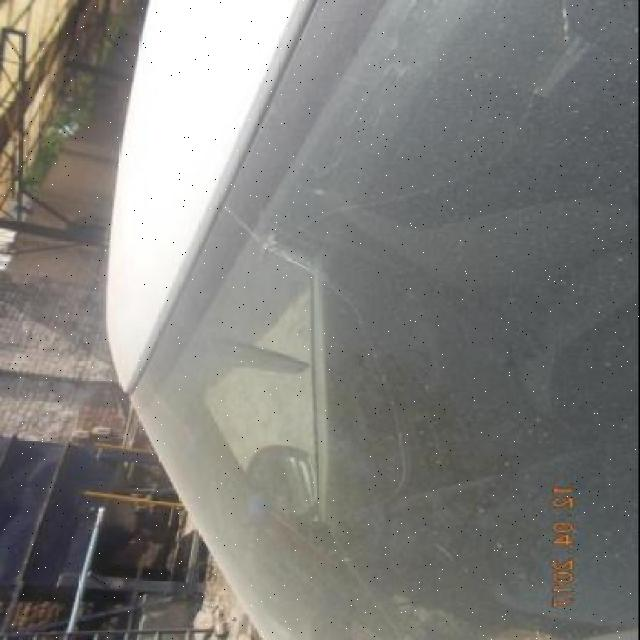damage: (245, 221, 308, 264)
